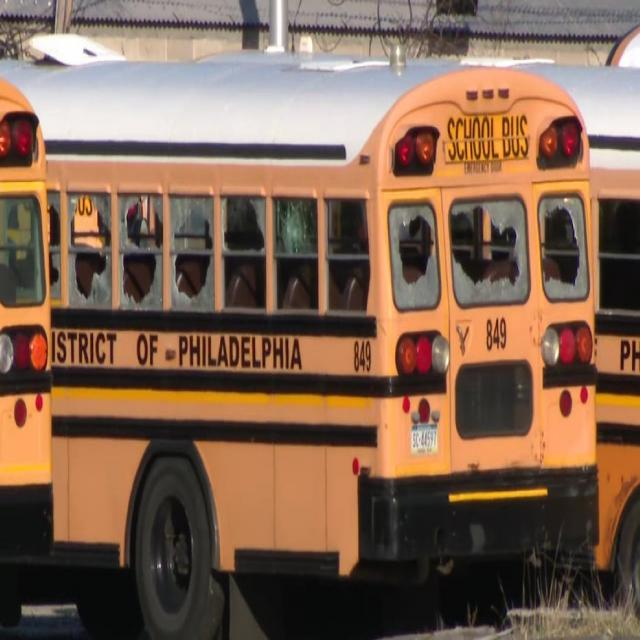bus: (0, 64, 595, 640)
